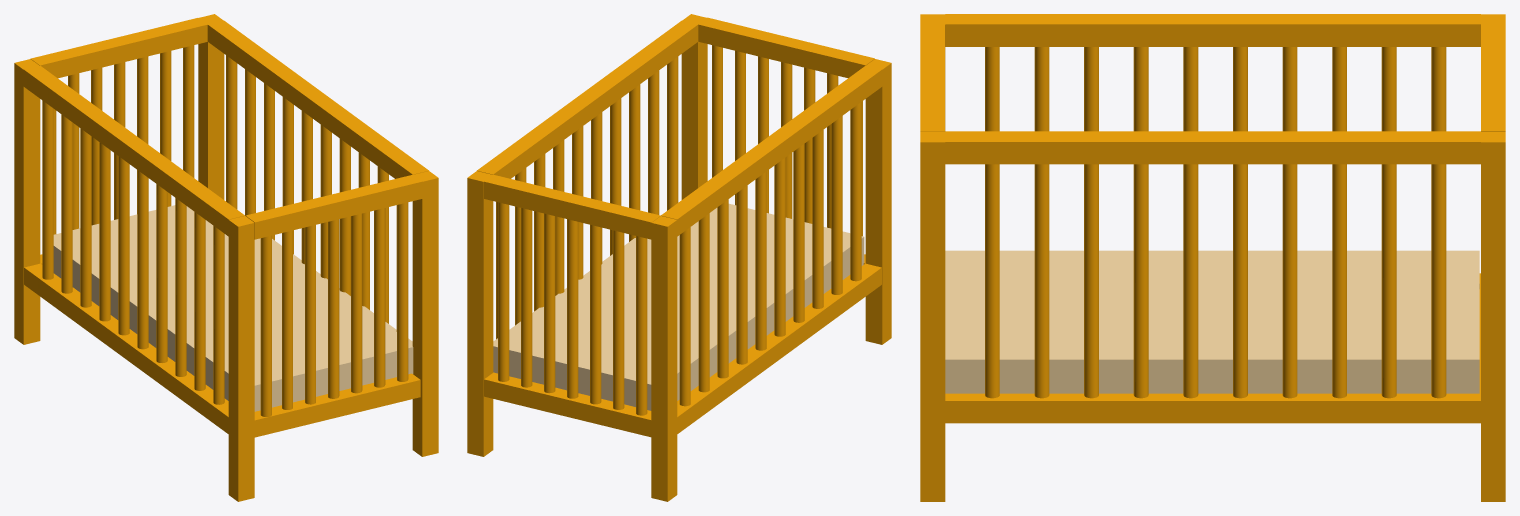
File: crib.fbx
3 views of the same model, side by side, from view 1: azimuth 30°, elevation 25°; view 2: azimuth 150°, elevation 25°; view 3: azimuth 270°, elevation 25° (orthographic). The views are drawn at different scales.
Parts seen in each view (by area): view 1: Cube_7, Cube_1_1, Cube_1_2, Cube_2_2, Cube_2_3, Cube_1, Cube_2_1, Cube_4_2, Cube_4_3, Cube_1_3, Cube_4_1, Cylinder_1 (+32 smaller); view 2: Cube_7, Cube_1, Cube_1_3, Cube_2_2, Cube_2_3, Cube_1_1, Cube_2_1, Cube_4_3, Cube_4_2, Cube_1_2, Cube_4, Cylinder_1_11 (+31 smaller); view 3: Cube_7, Cube_2_3, Cube_2_2, Cube_2, Cube_1_2, Cube_1_3, Cylinder_1_25, Cylinder_1_30, Cylinder_1_27, Cylinder_1_28, Cylinder_1_32, Cylinder_1_33 (+16 smaller).
Part boxes in pixels (x1,y1,x2,y2): Cube_7: [53, 205, 413, 411]; Cube_1_1: [228, 216, 254, 501]; Cube_1_2: [412, 171, 438, 456]; Cube_2_2: [23, 65, 244, 236]; Cube_2_3: [208, 20, 428, 178]; Cube_1: [14, 59, 40, 344]; Cube_2_1: [24, 263, 228, 433]; Cube_4_2: [245, 174, 422, 239]; Cube_4_3: [30, 18, 207, 78]; Cube_1_3: [198, 14, 224, 199]; Cube_4_1: [254, 373, 420, 437]; Cylinder_1: [260, 235, 271, 416]; Cube_7: [493, 203, 864, 410]; Cube_1: [651, 216, 677, 501]; Cube_1_3: [467, 171, 493, 456]; Cube_2_2: [661, 65, 882, 236]; Cube_2_3: [477, 20, 697, 178]; Cube_1_1: [865, 59, 891, 344]; Cube_2_1: [677, 263, 881, 433]; Cube_4_3: [484, 174, 660, 239]; Cube_4_2: [698, 17, 874, 77]; Cube_1_2: [681, 14, 707, 199]; Cube_4: [484, 372, 651, 437]; Cylinder_1_11: [590, 224, 601, 404]; Cube_7: [945, 250, 1479, 393]; Cube_2_3: [945, 131, 1480, 164]; Cube_2_2: [945, 14, 1480, 46]; Cube_2: [945, 390, 1480, 423]; Cube_1_2: [920, 132, 945, 501]; Cube_1_3: [1481, 132, 1505, 501]; Cylinder_1_25: [1034, 164, 1049, 398]; Cylinder_1_30: [1282, 164, 1297, 398]; Cylinder_1_27: [1133, 164, 1148, 398]; Cylinder_1_28: [1183, 164, 1198, 398]; Cylinder_1_32: [1381, 164, 1396, 398]; Cylinder_1_33: [1431, 164, 1446, 398].
Bounding box in the file's own units: 61 × 80.1 × 118.
